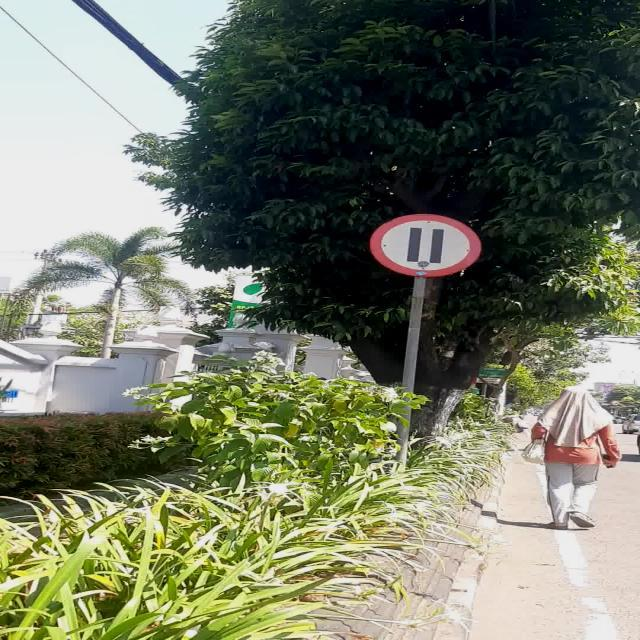Larangan Muatan - 10 ton: (370, 214, 481, 276)
